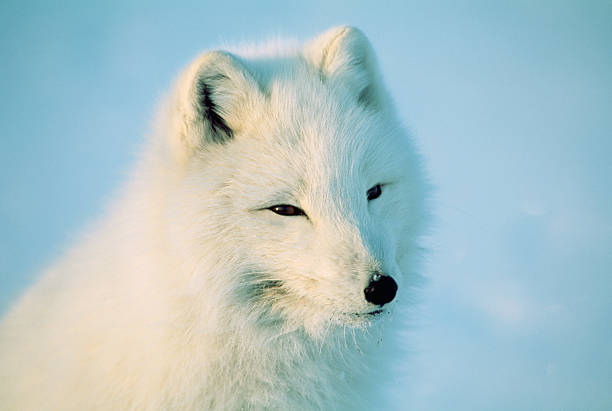arcticfox: (214, 73, 417, 326)
